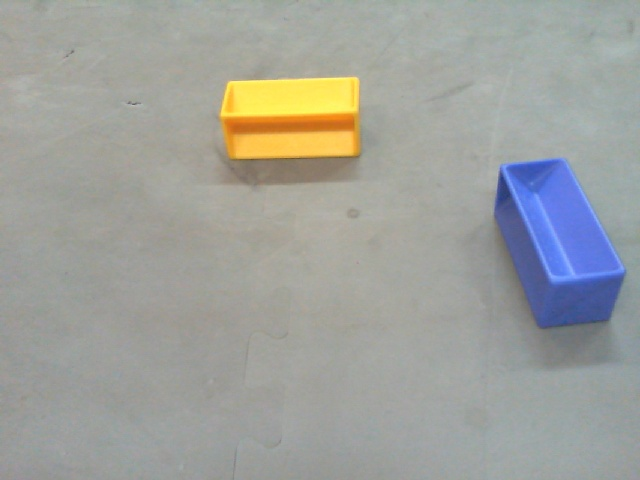BlueSample: (490, 155, 627, 332)
YellowSample: (220, 77, 364, 161)
